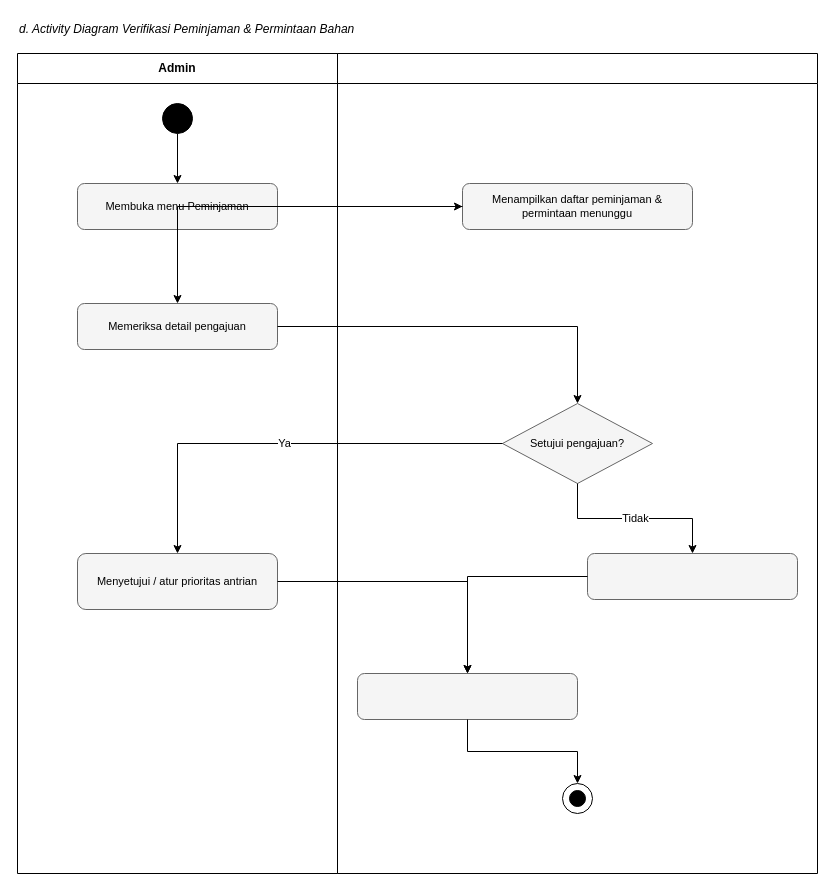
This 835x891 diagram has some shape labels left out. The box of each missing label's shape, as (x1, y1, x2, y2) in pixels:
Memperbarui status & memberi tahu siswa: (356, 672, 578, 720)
Menolak & mengisi alasan penolakan: (586, 552, 798, 600)
Sistem: (336, 52, 818, 874)
